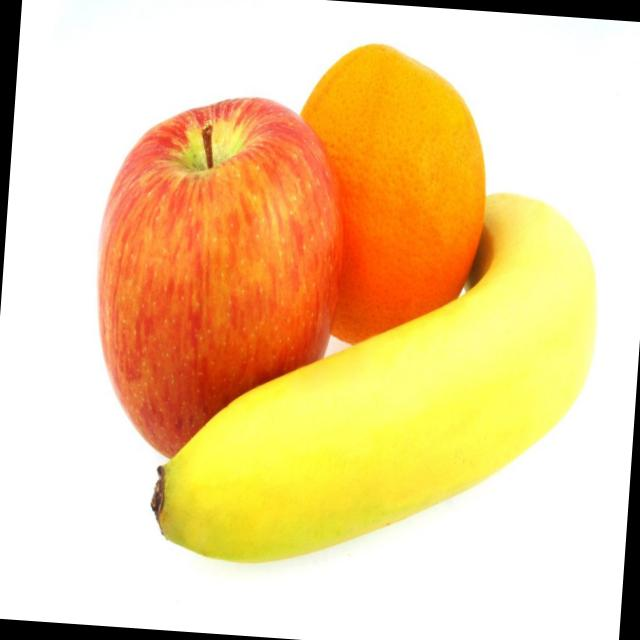apple: (80, 86, 362, 490)
banana: (130, 160, 634, 632)
orange: (254, 31, 503, 387)
